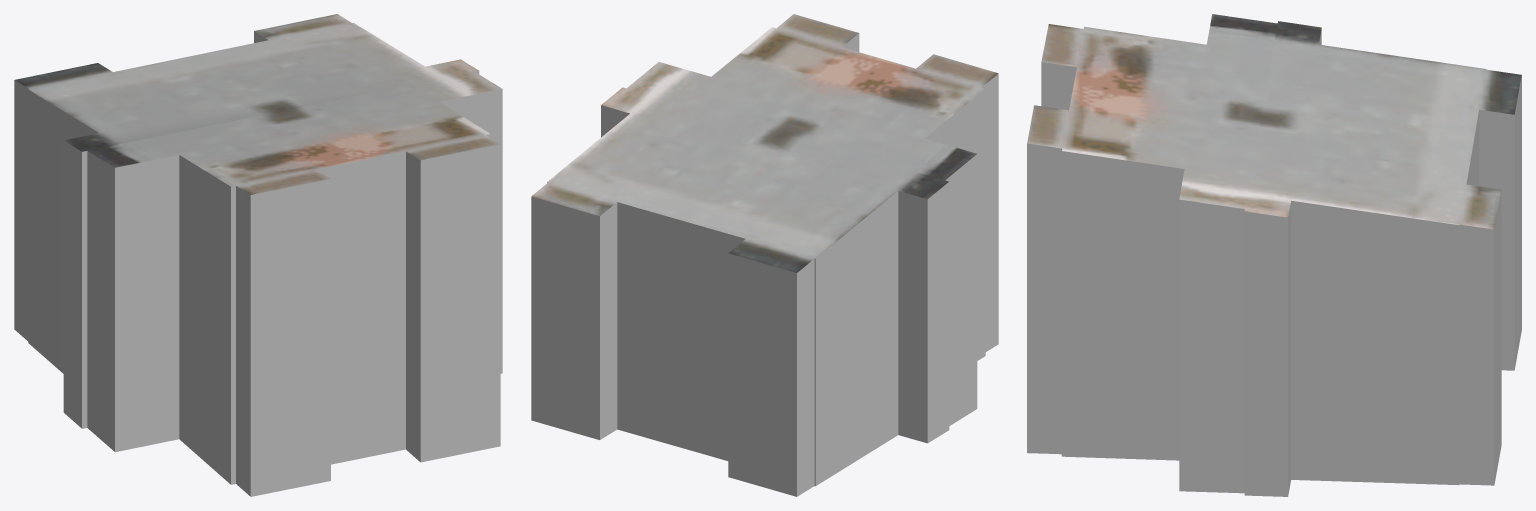
File: DEBW_0010007Tvla.gltf
3 renders of one model, left to right at view 1: azimuth 30°, elevation 25°; view 2: azimuth 150°, elevation 25°; view 3: azimuth 270°, elevation 25°, orthographic. The views are drawn at different scales.
Visible parts, largest first — view 1: Z_UP; view 2: Z_UP; view 3: Z_UP.
Boxes of the visible parts, box(x1,y1,x2,y2) form: Z_UP: box(14, 14, 502, 496); Z_UP: box(531, 14, 998, 496); Z_UP: box(1027, 14, 1521, 496).
Size of the model in its own units: 18.86 by 14.2 by 20.55.
2 materials, 1 textured.
